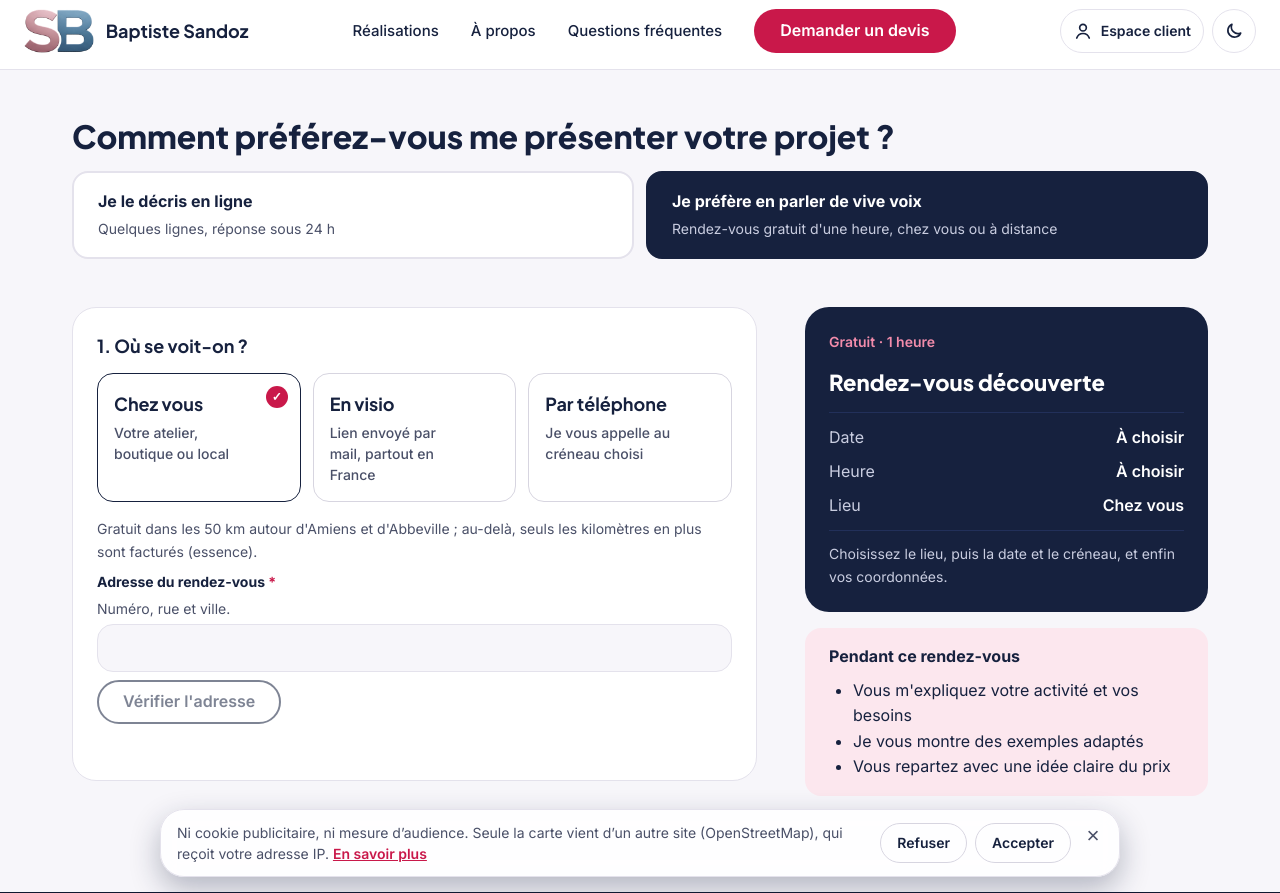
Test case: Page Rendez-vous › ne propose que les jours ouvrés à venir, puis les créneaux du jour choisi
Click the radio button labelled "En visio Lien envoyé par mail, partout en France": x=415, y=438 [313,373,516,502]
(page scrolled)
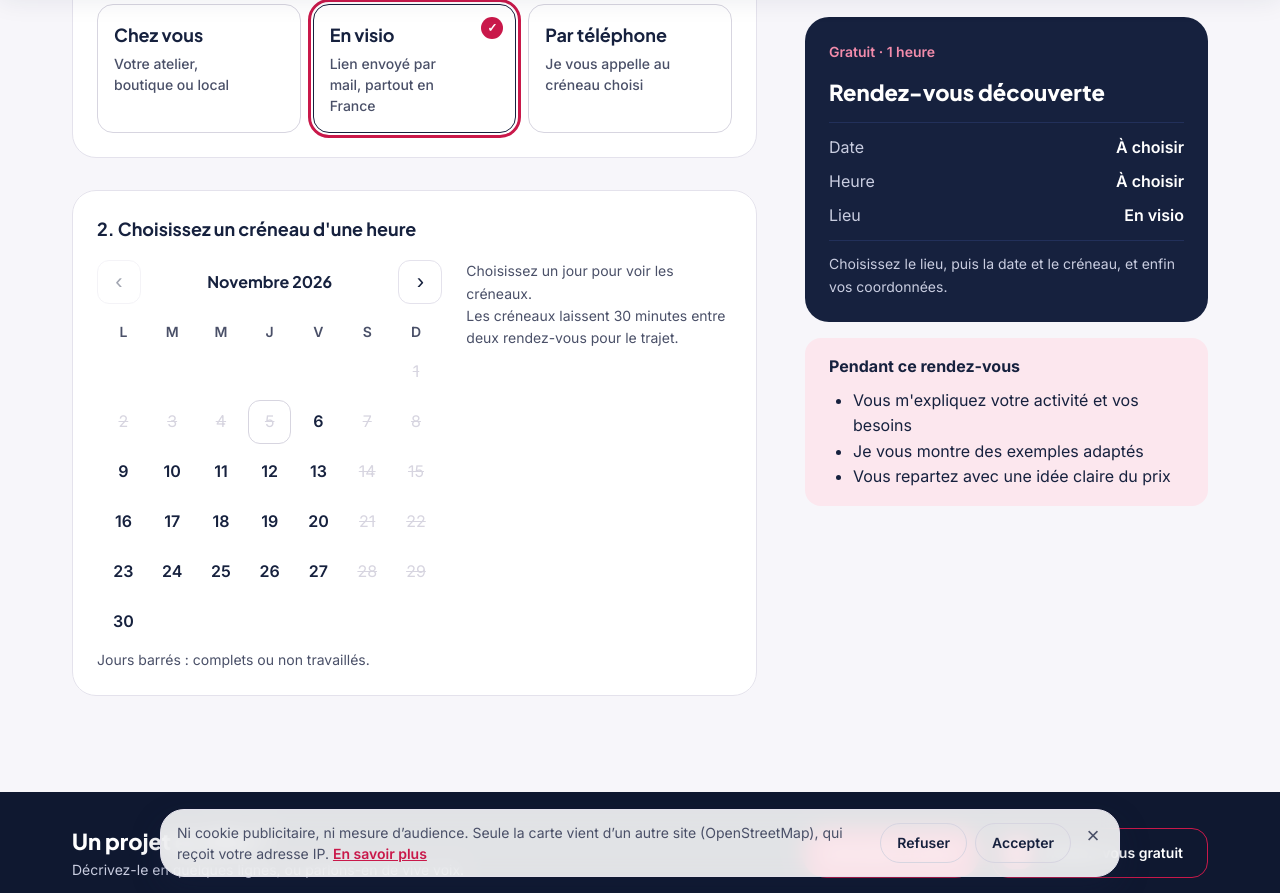
Expected: the button named "jeudi 5 novembre 2026, indisponible" is shown, [248,400,291,444]
Expected: the button named "samedi 7 novembre 2026, indisponible" is shown, [346,400,389,444]
Expected: the text "Choisissez un jour pour voir les créneaux." is shown, [466,262,674,302]
Click the button named "mardi 17 novembre 2026": x=172, y=522 [151,500,194,544]
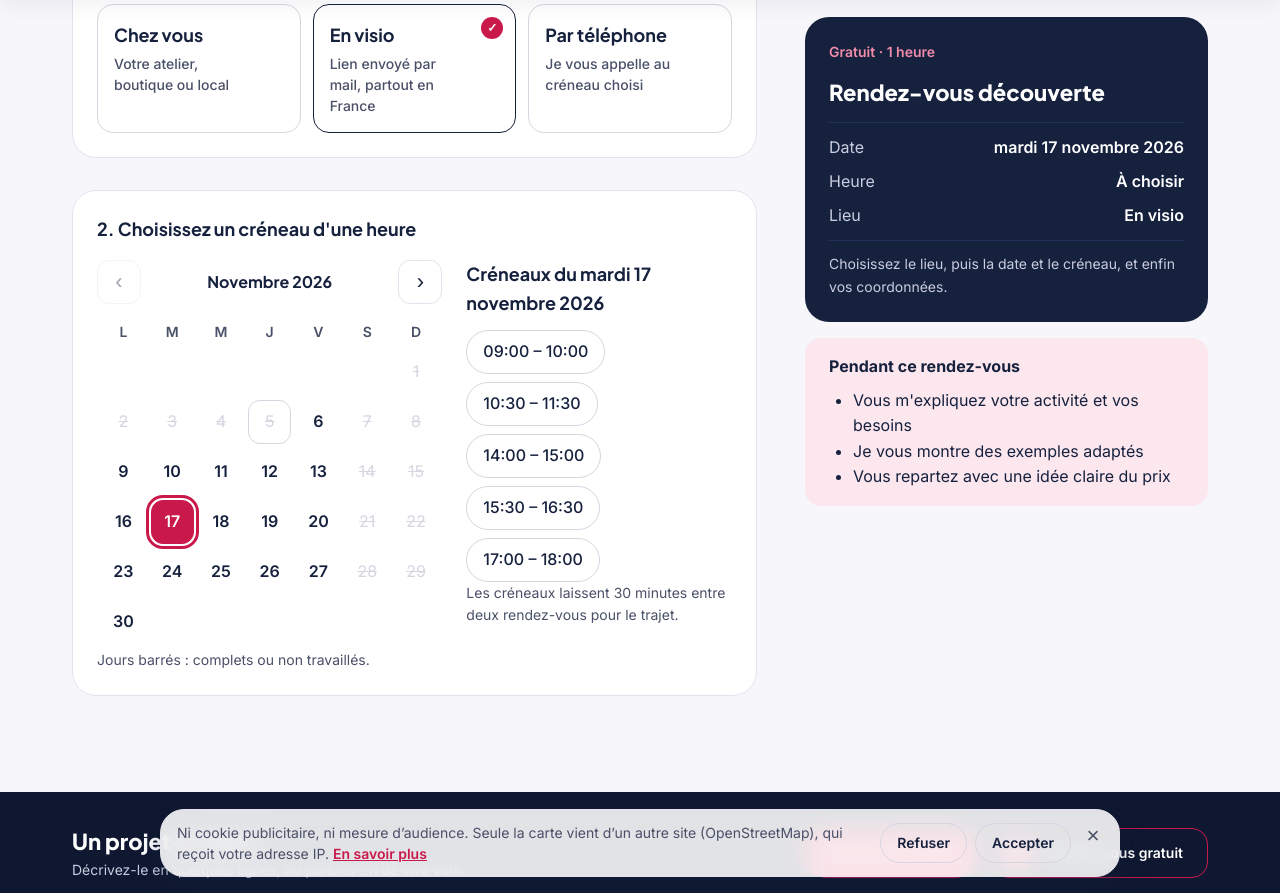
Click the radio button labelled "14:00 – 15:00": x=534, y=456 [466,434,601,478]
(page scrolled)
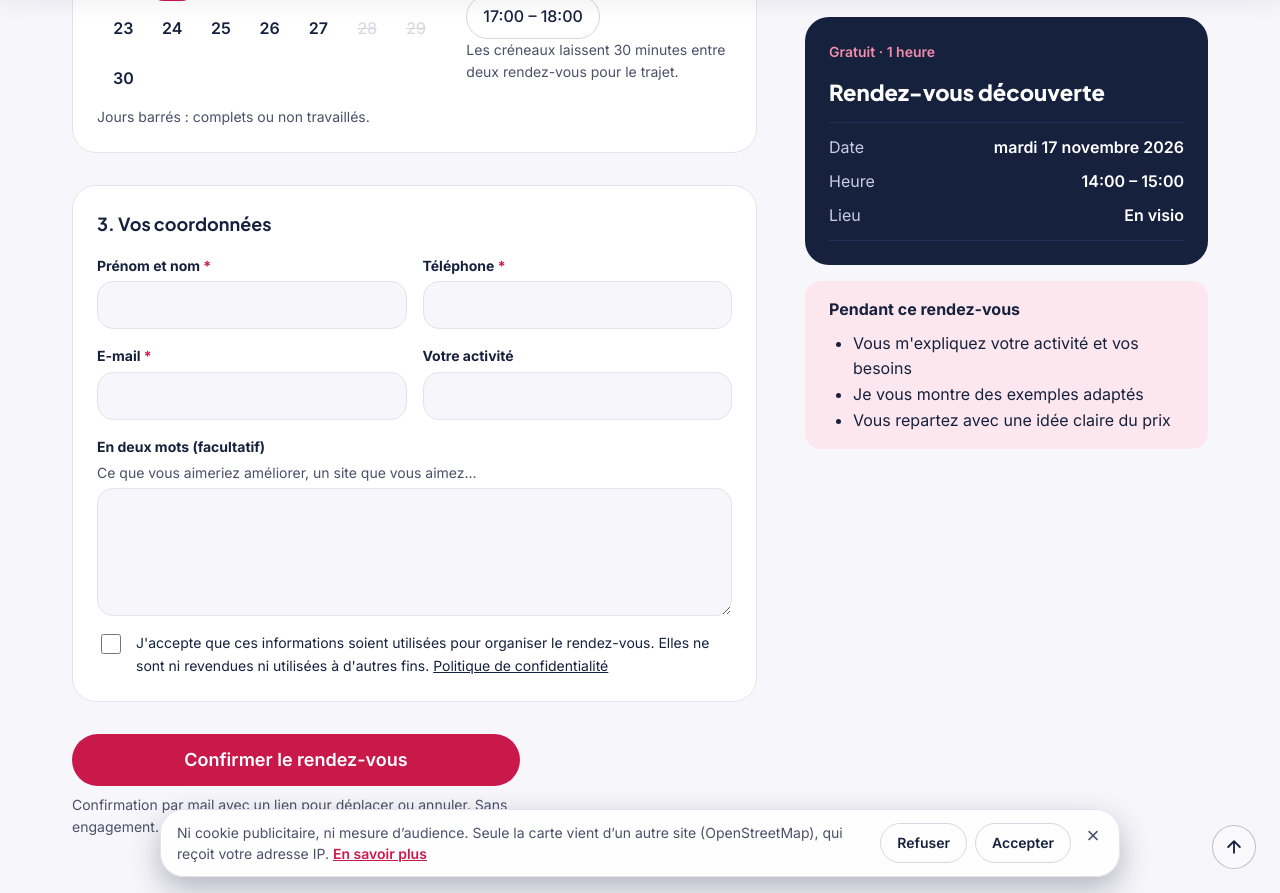
Expected: the element named "Votre rendez-vous" shows "mardi 17 novembre 2026", [994,138,1184,158]
Expected: the element named "Votre rendez-vous" shows "14:00 – 15:00", [1082,171,1184,191]
